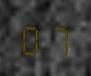seven: (45, 20, 70, 56)
zero: (19, 19, 44, 55)
